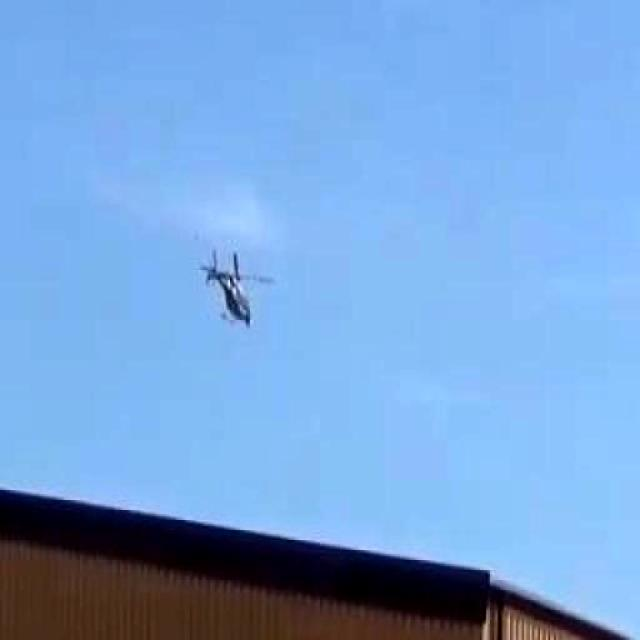drone: (164, 210, 274, 366)
